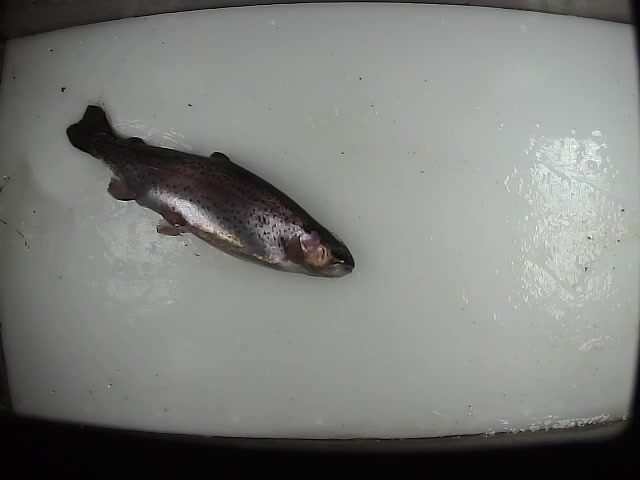fish: (66, 102, 357, 280)
